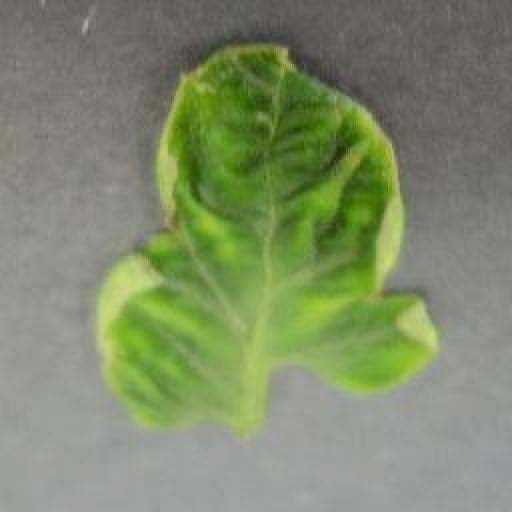disease_tomato: (94, 42, 438, 436)
